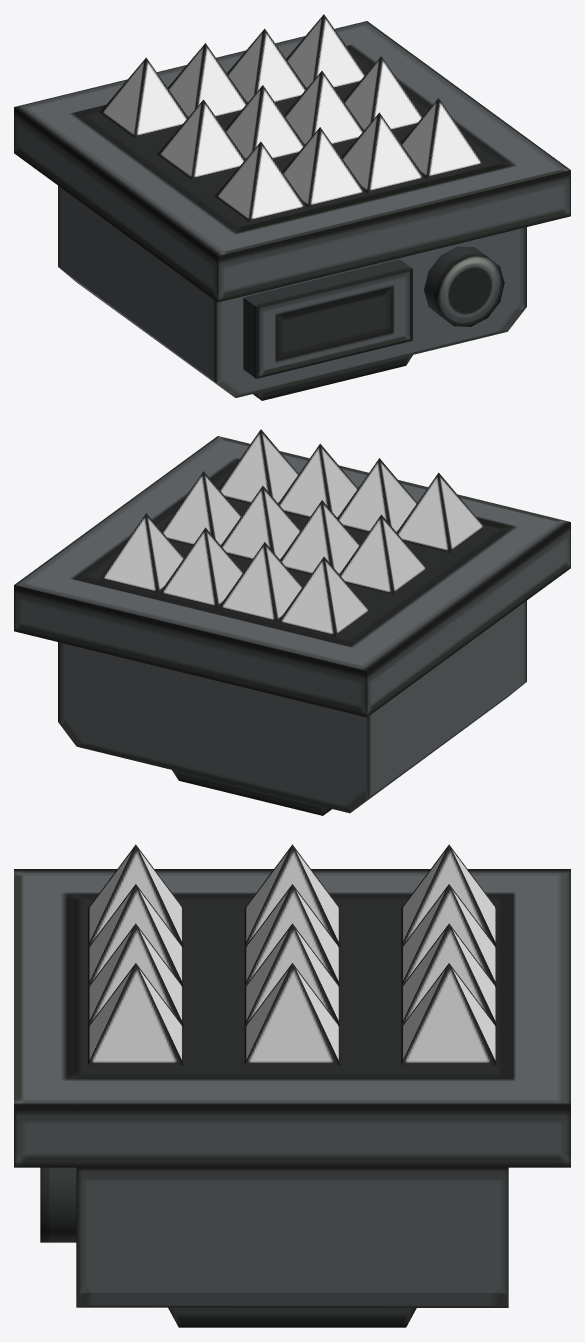
File: Jump_Platform04.fbx
The picture shows the model from 3 angles, top to bottom: view 1: azimuth 30°, elevation 25°; view 2: azimuth 150°, elevation 25°; view 3: azimuth 270°, elevation 25°; orthographic projection. The views are drawn at different scales.
Parts seen in each view (by area): view 1: polySurface442; view 2: polySurface442; view 3: polySurface442.
Boxes of the visible parts, x1,y1,x2,y2 form: polySurface442: (14,14,570,400); polySurface442: (14,429,570,815); polySurface442: (14,844,570,1327).
Size of the model in its own units: 0.2981 by 0.222 by 0.2981.
1 material, 1 textured.
